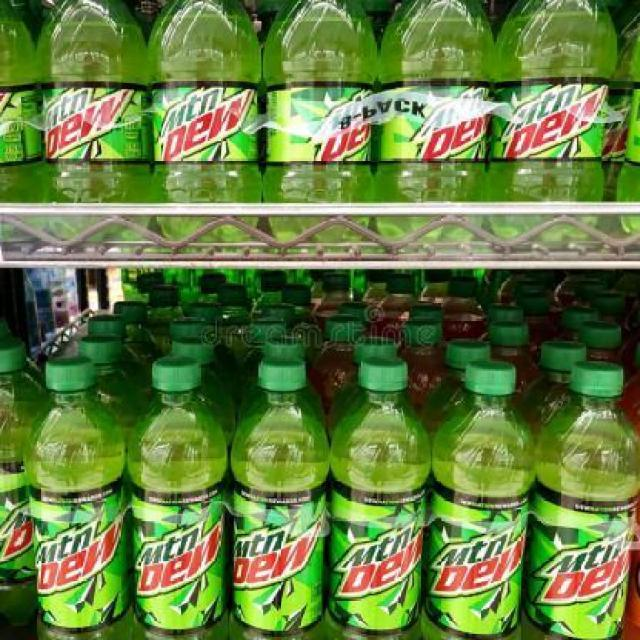Drinks: (493, 1, 619, 244), (431, 359, 537, 639), (22, 356, 126, 639), (227, 356, 331, 639), (126, 358, 230, 640), (534, 361, 638, 639), (330, 356, 432, 639), (376, 1, 492, 244), (261, 0, 377, 243), (35, 0, 150, 244), (151, 0, 262, 243)
